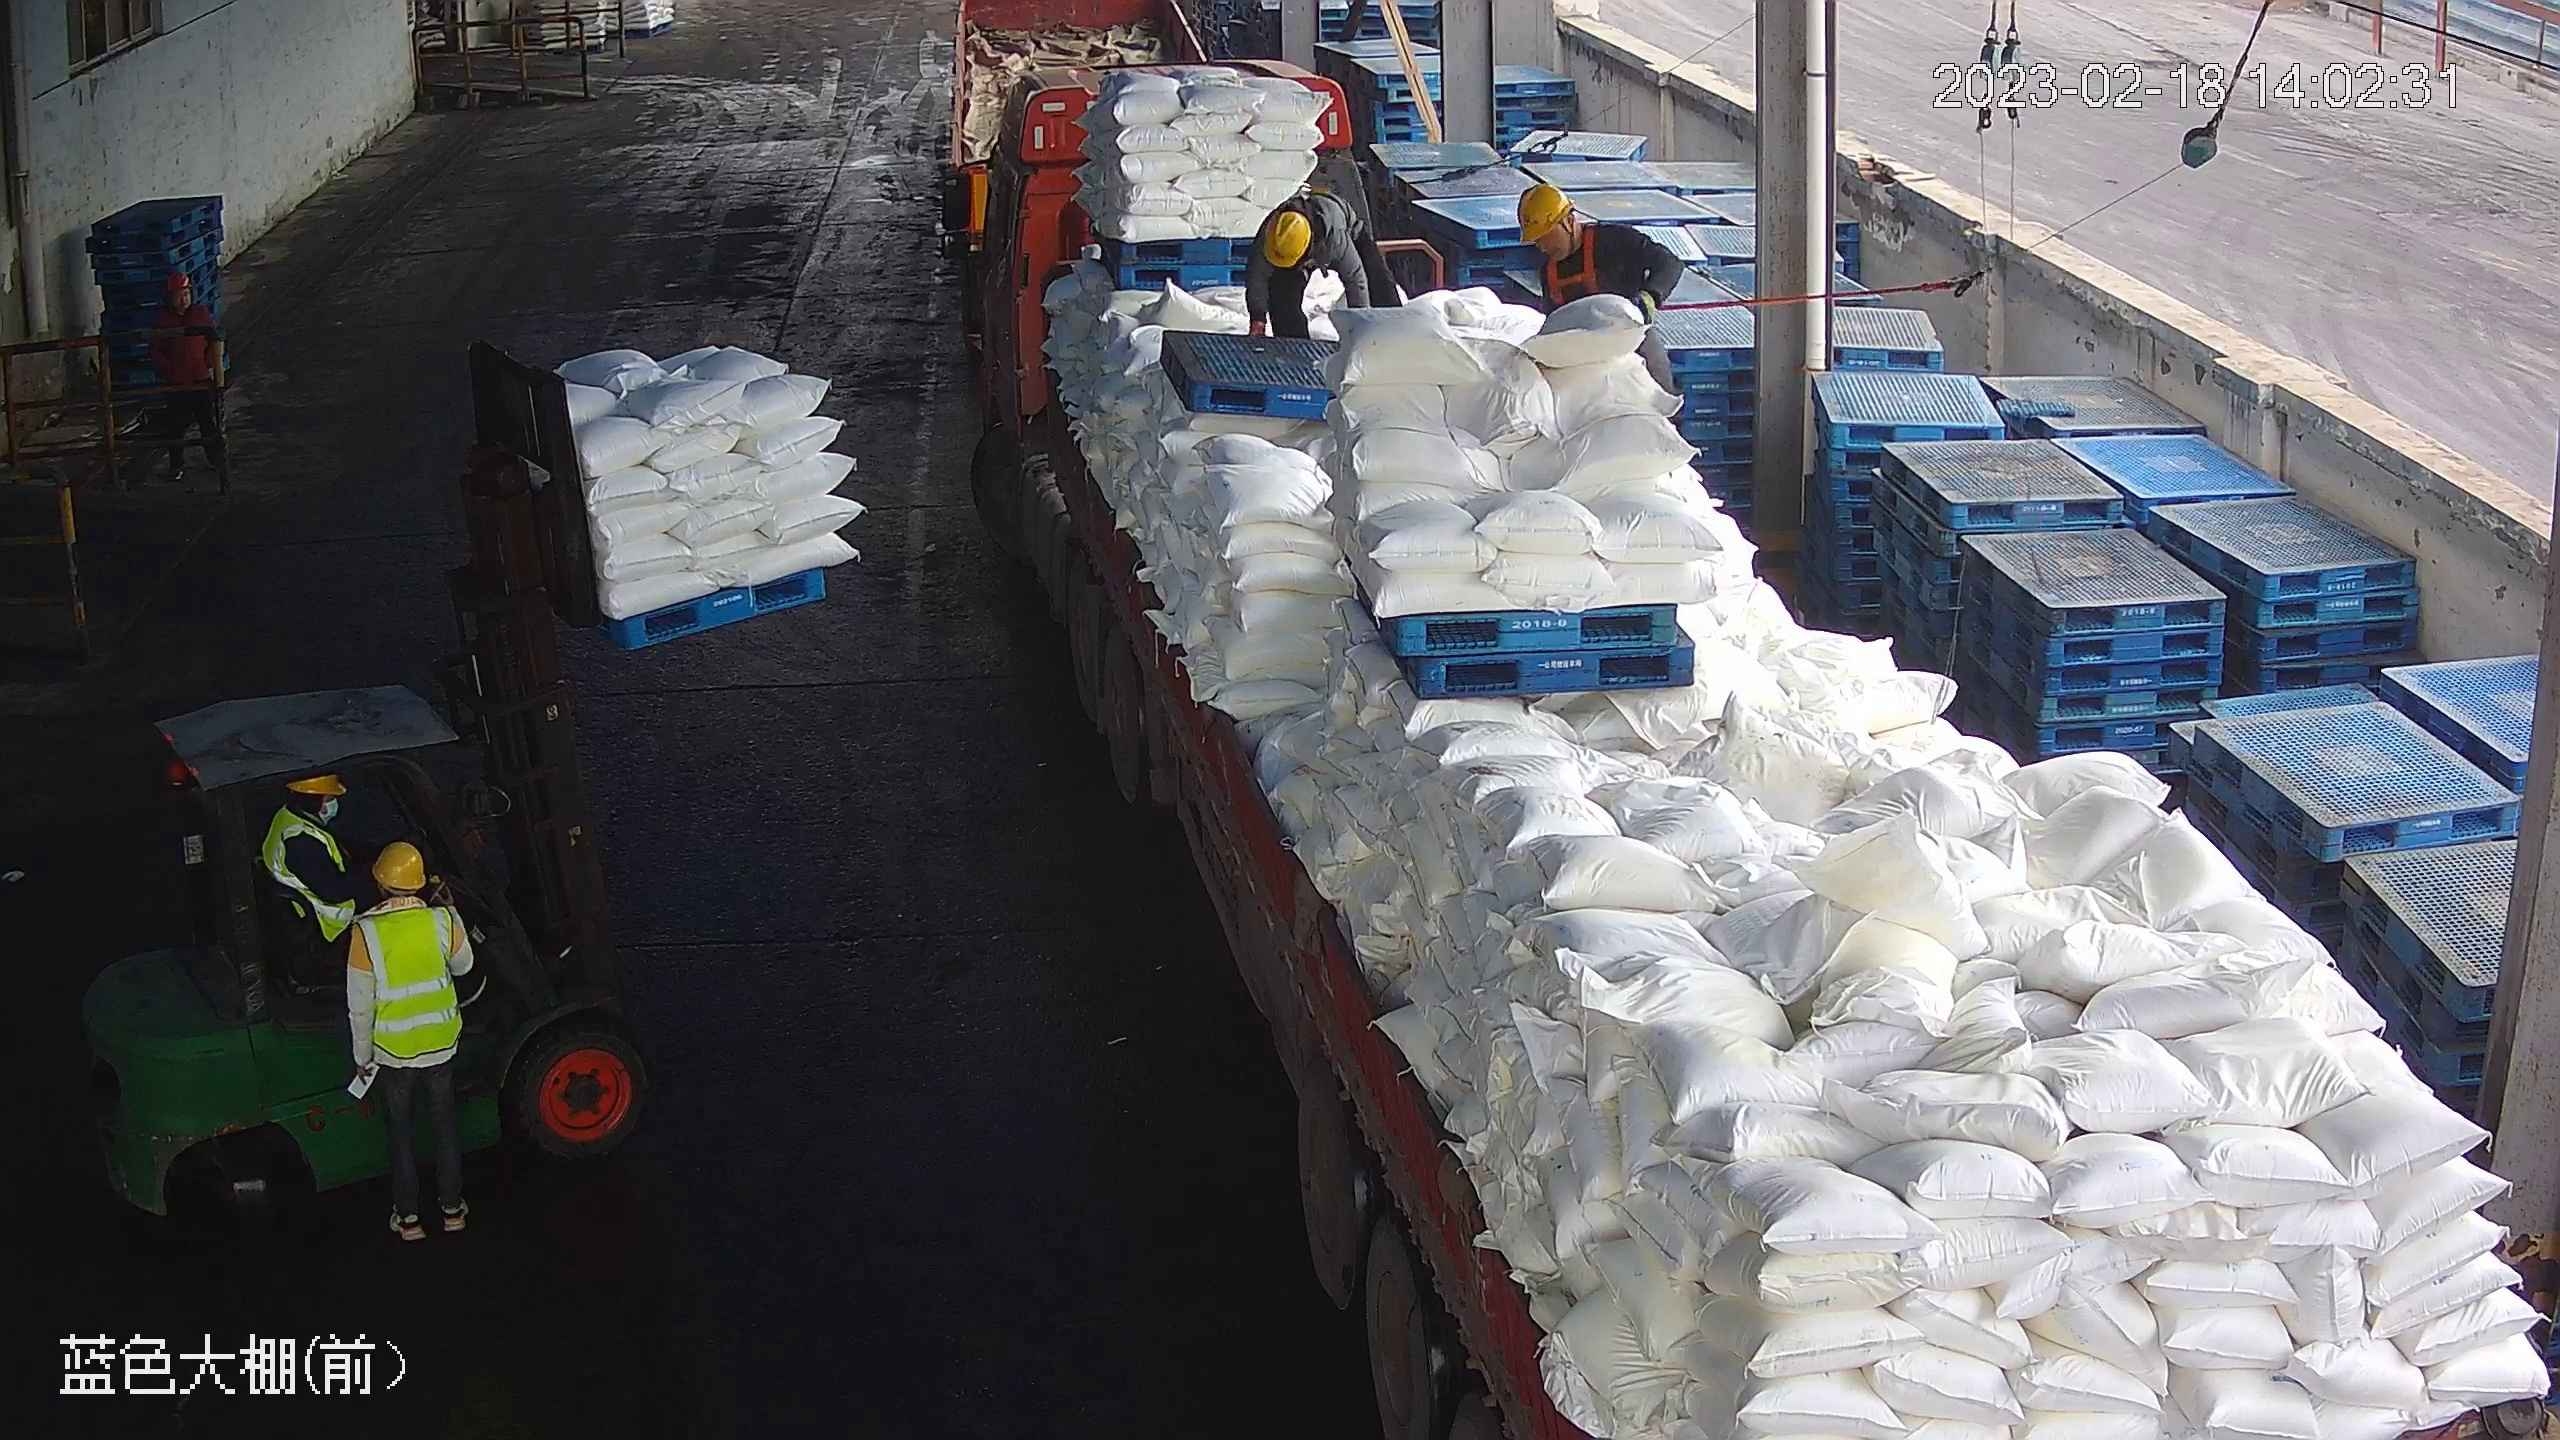belt: (1546, 230, 1607, 310), (1281, 178, 1342, 228)
head: (350, 838, 471, 973), (1515, 181, 1648, 277), (1247, 194, 1350, 281), (266, 771, 356, 863), (157, 271, 219, 334)
helmet: (1516, 179, 1573, 242), (367, 841, 430, 892), (1265, 207, 1314, 266), (165, 274, 193, 291)
people: (350, 837, 486, 1250), (1241, 188, 1384, 342), (261, 767, 360, 959), (153, 265, 233, 495)
truck: (973, 154, 2558, 1439)
